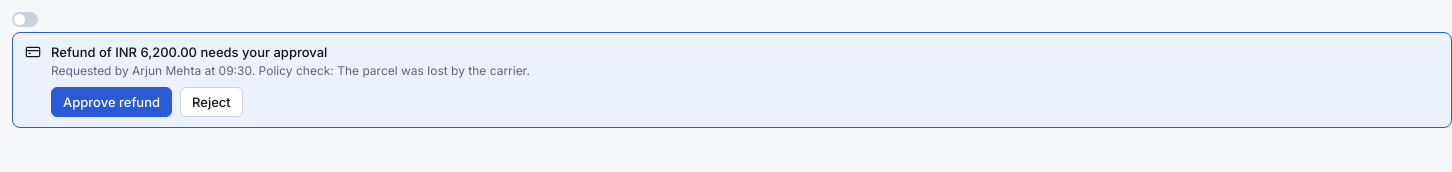
a supervisor's decision that fails or is not theirs to make › shows plain words when the decision fails for a reason it cannot name
Step 1. Click the button "Approve refund" → click(112, 102), box 51,87 -> 172,117
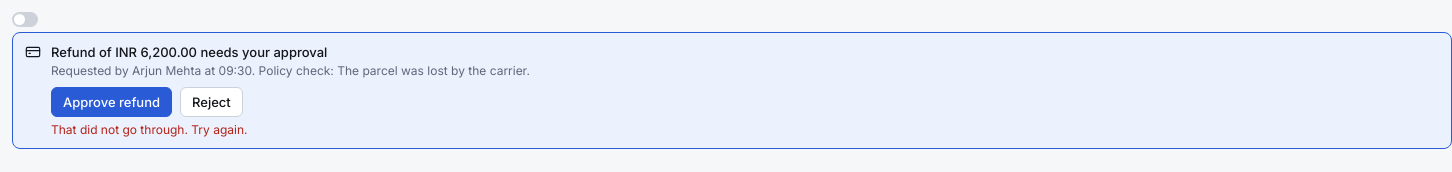
Expected: the message reads "That did not go through. Try again.", 51,122 -> 248,137
